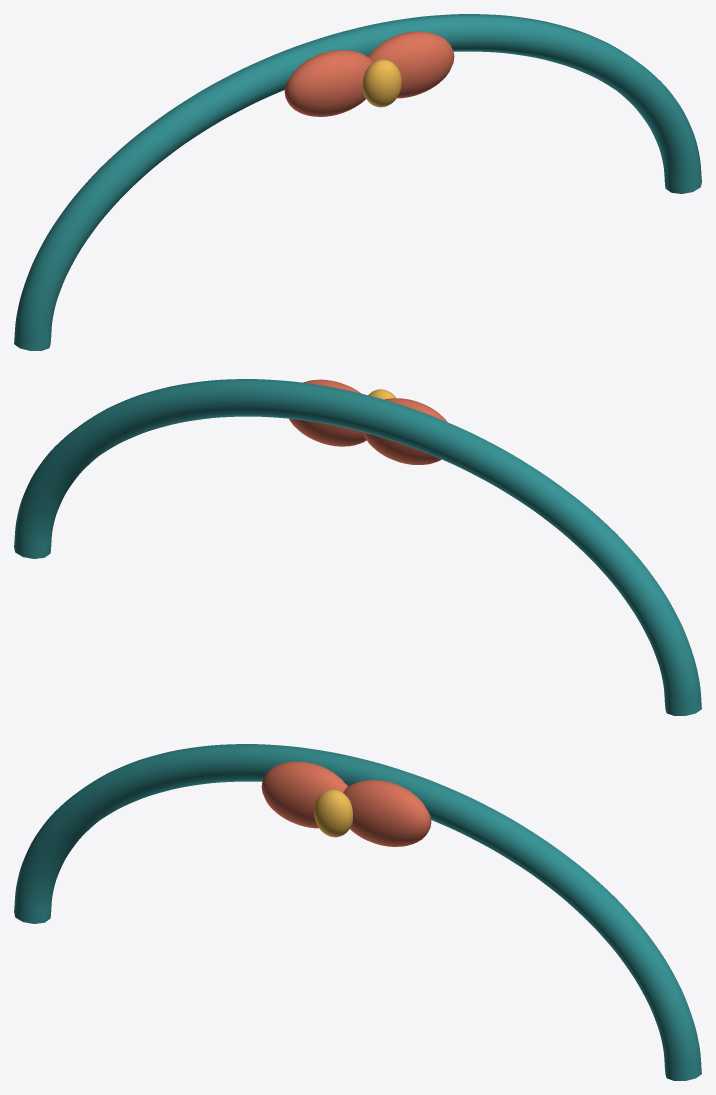
File: NeighborHairBand.fbx
The picture shows the model from 3 angles, top to bottom: view 1: azimuth 30°, elevation 25°; view 2: azimuth 150°, elevation 25°; view 3: azimuth 330°, elevation 25°; orthographic projection.
Visible parts, largest first — view 1: HairBand, FabricBow.001, FabricBow, BowKnot; view 2: HairBand, FabricBow.001, FabricBow; view 3: HairBand, FabricBow, FabricBow.001, BowKnot.
Part boxes in pixels (x1,y1,x2,y2): HairBand: (14, 14, 701, 350); FabricBow.001: (284, 50, 372, 116); FabricBow: (367, 31, 454, 98); BowKnot: (363, 59, 401, 107); HairBand: (14, 379, 701, 715); FabricBow.001: (363, 398, 446, 464); FabricBow: (289, 379, 366, 446); HairBand: (14, 744, 701, 1080); FabricBow: (343, 780, 431, 846); FabricBow.001: (261, 761, 348, 828); BowKnot: (314, 789, 352, 837).
Size of the model in its own units: 37.7 by 12.44 by 4.
